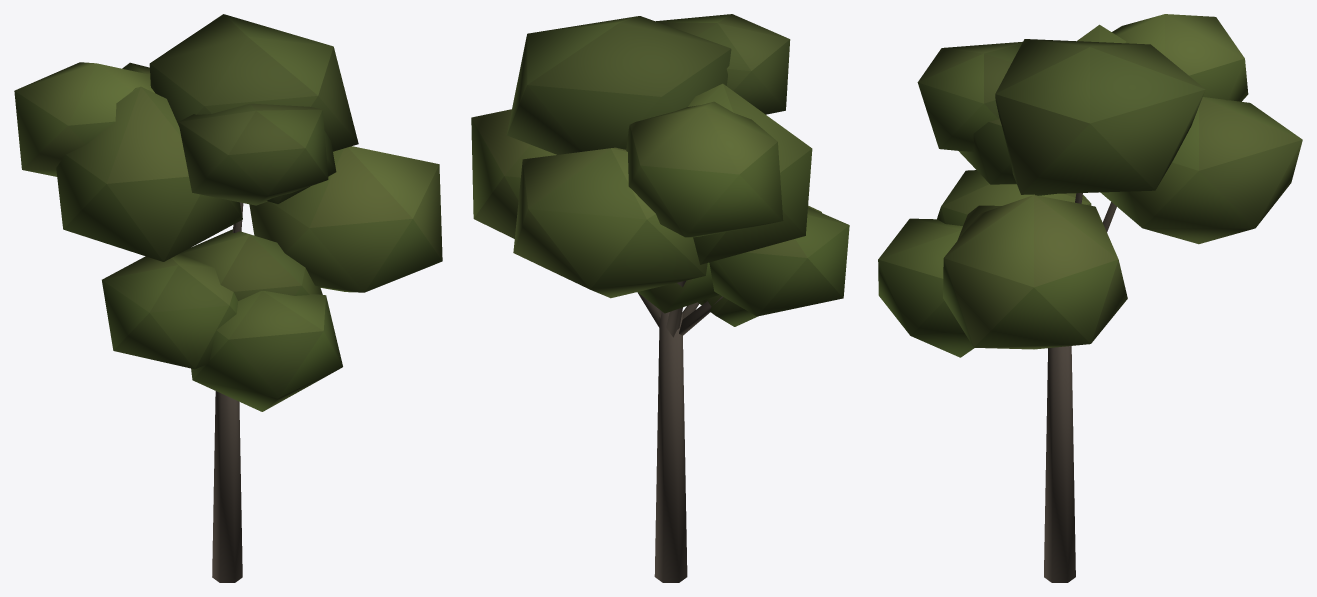
Rendered from env_oak_dec.glb.
The picture shows the model from 3 angles, left to right: view 1: azimuth 30°, elevation 25°; view 2: azimuth 150°, elevation 25°; view 3: azimuth 270°, elevation 25°; orthographic projection. The views are drawn at different scales.
Visible parts, largest first — view 1: env_oak_dec; view 2: env_oak_dec; view 3: env_oak_dec.
Part boxes in pixels (<box>): env_oak_dec: <box>14,14,442,582</box>; env_oak_dec: <box>471,14,849,582</box>; env_oak_dec: <box>878,14,1302,582</box>.
Size of the model in its own units: 9.65 by 13.55 by 9.52.
